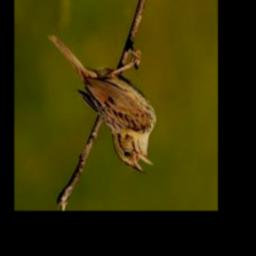Sparrow: (44, 33, 157, 175)
